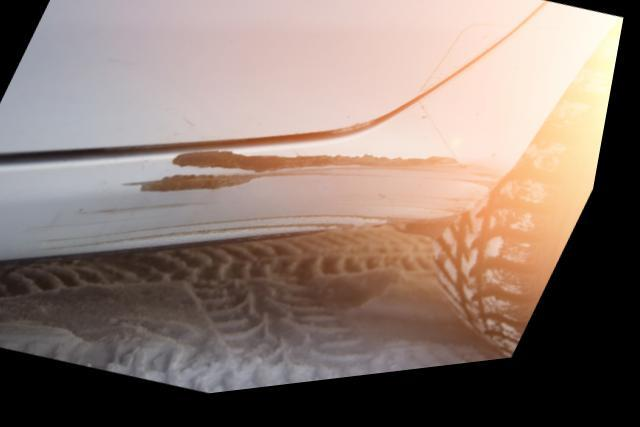rub: (35, 154, 511, 258)
